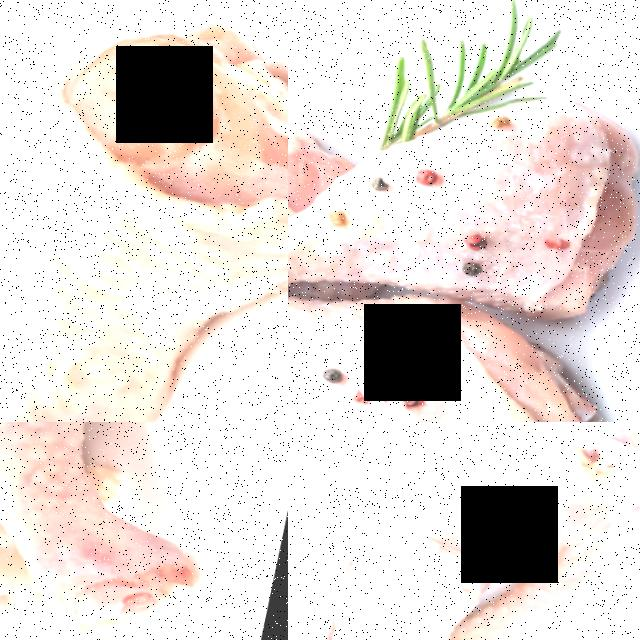chicken thigh: (288, 28, 640, 399), (0, 0, 288, 422), (288, 228, 630, 422), (0, 422, 245, 640), (406, 476, 640, 640), (288, 493, 497, 640)
